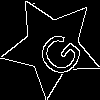G: (26, 21, 86, 82)
